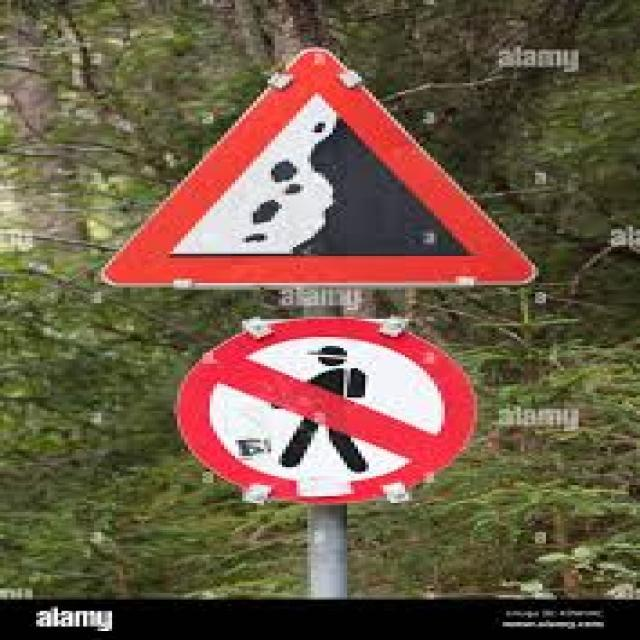falling rocks: (99, 47, 547, 293)
